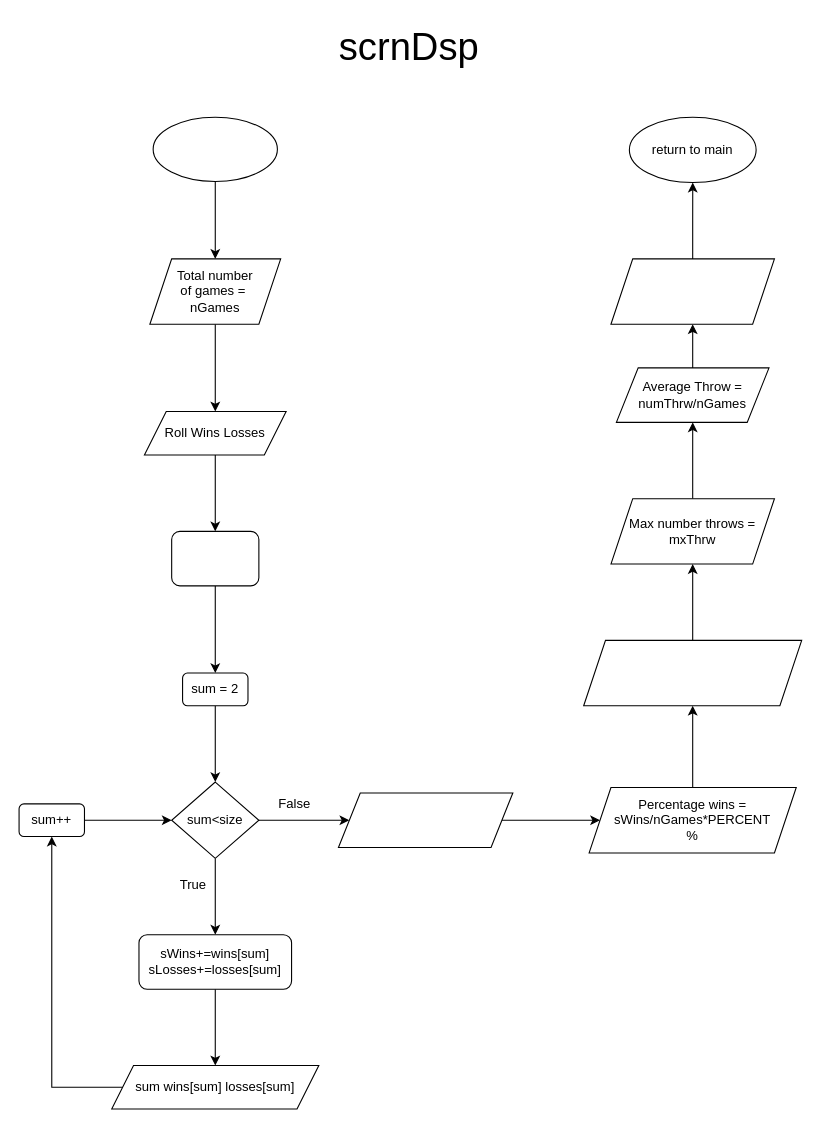
Image size: 821x1128. Some labels were removed from this diagram. The shapes that lost their labels are listed below. From the top down, each one's centre as x and y in pixels, then its label:
At point 214,148: "enter from Main scrnDsp".
At point 692,291: "Ratio of longest to shortest game = 10^ log10(mxThrw)".
At point 215,558: "sWins = 0 sLosses = 0".
At point 692,672: "Percentage losses = sLosses/nGames*PERCENT %".
At point 425,819: "Total wins and losses = sWins+sLosses".
